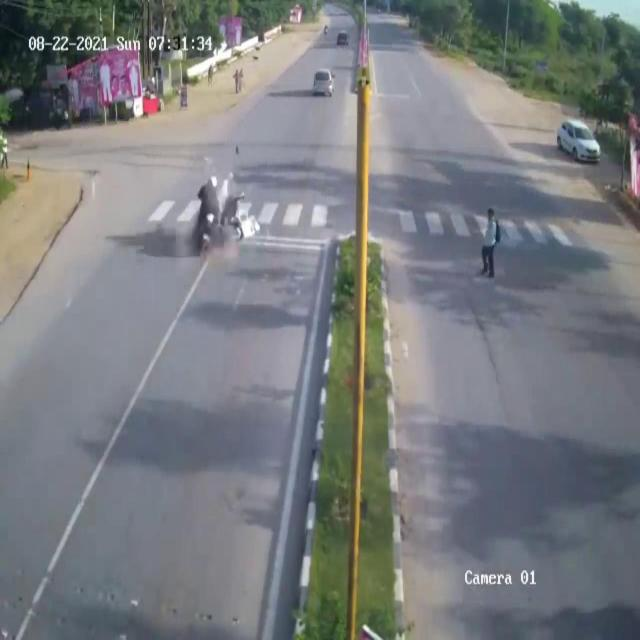accident: (179, 154, 274, 279)
